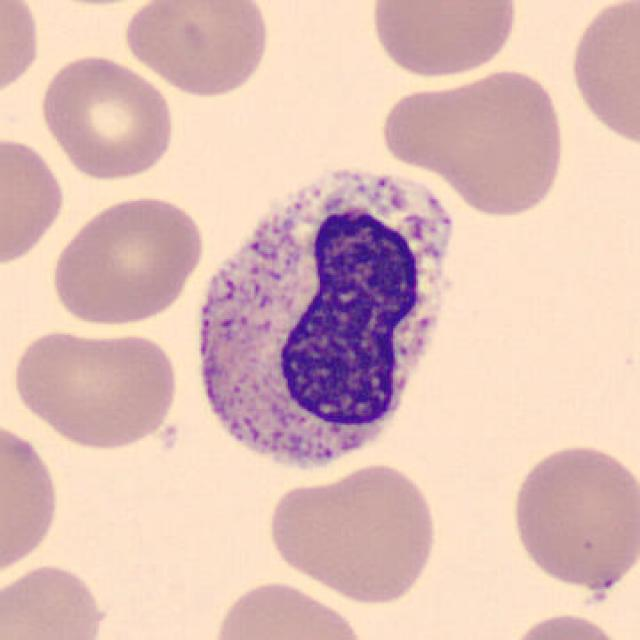Neutrophil: (191, 149, 475, 485)
RBC: (377, 64, 572, 220), (265, 458, 443, 606), (7, 323, 183, 453), (46, 190, 208, 328), (505, 438, 638, 592), (36, 51, 178, 183), (119, 0, 273, 100), (366, 0, 523, 81), (566, 0, 638, 152), (0, 412, 64, 582), (207, 576, 373, 640), (0, 130, 69, 269), (0, 559, 112, 640), (0, 0, 44, 104), (503, 608, 633, 640)
